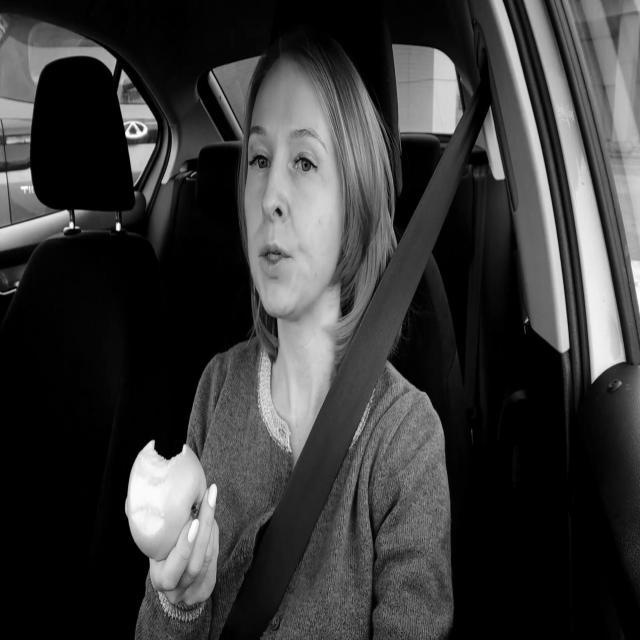Eating: (127, 435, 210, 564)
Seatbelt: (218, 87, 493, 640)
